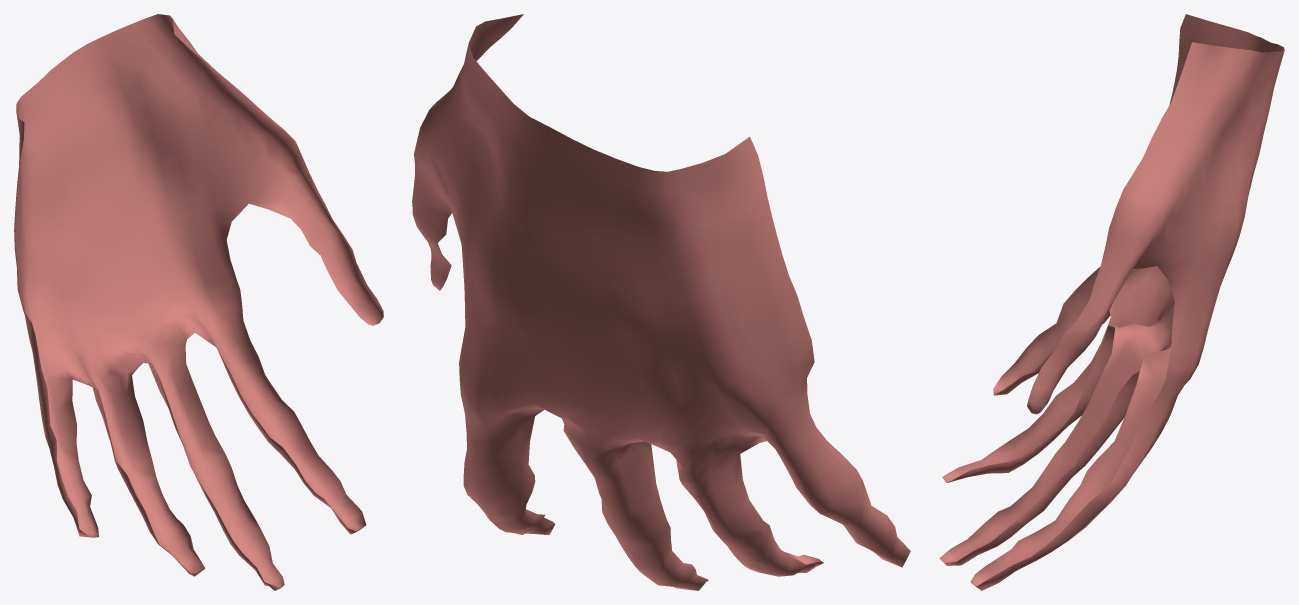
3 views of the same model, side by side, from view 1: azimuth 30°, elevation 25°; view 2: azimuth 150°, elevation 25°; view 3: azimuth 270°, elevation 25° (orthographic). The views are drawn at different scales.
Parts seen in each view (by area): view 1: ZA_71c3acd3b1b399b6; view 2: ZA_71c3acd3b1b399b6; view 3: ZA_71c3acd3b1b399b6.
Boxes of the visible parts, box(x1,y1,x2,y2) form: ZA_71c3acd3b1b399b6: box(14, 14, 383, 590); ZA_71c3acd3b1b399b6: box(412, 14, 910, 590); ZA_71c3acd3b1b399b6: box(939, 14, 1284, 590).
Bounding box in the file's own units: 0.1102 × 0.1566 × 0.0929.
